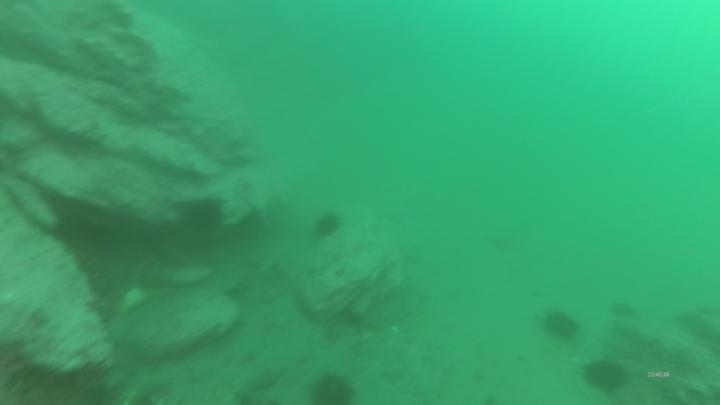echinus: (582, 356, 633, 397), (306, 371, 359, 405), (185, 198, 227, 240), (542, 307, 581, 344), (311, 210, 345, 243)
